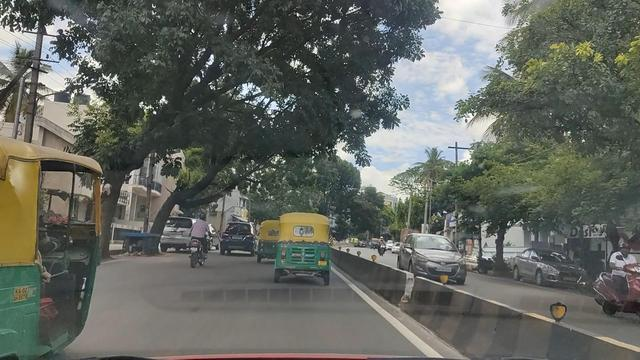LMV: (0, 139, 102, 357), (277, 211, 331, 287), (218, 219, 254, 264), (188, 202, 210, 269), (255, 223, 284, 265)
